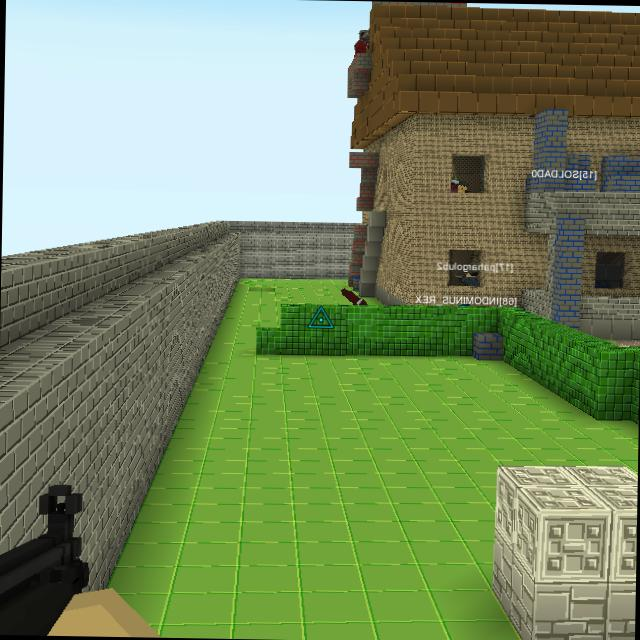enemy: (353, 28, 370, 52), (449, 176, 468, 192)
